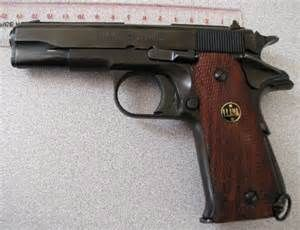Arma Real: (6, 17, 294, 221)
